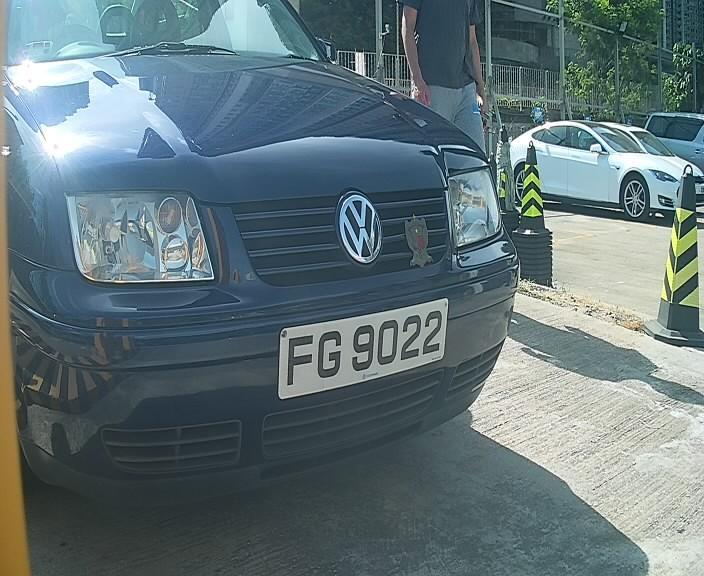privatecar: (4, 2, 521, 500)
